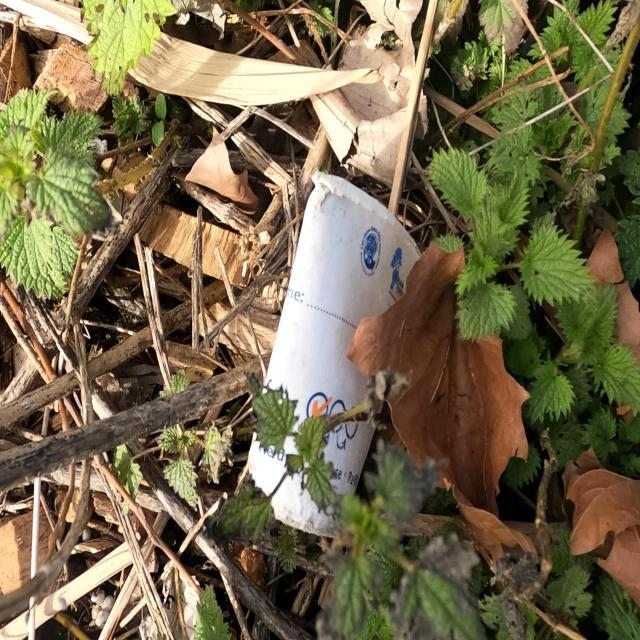Coffee Cup: (227, 167, 428, 553)
